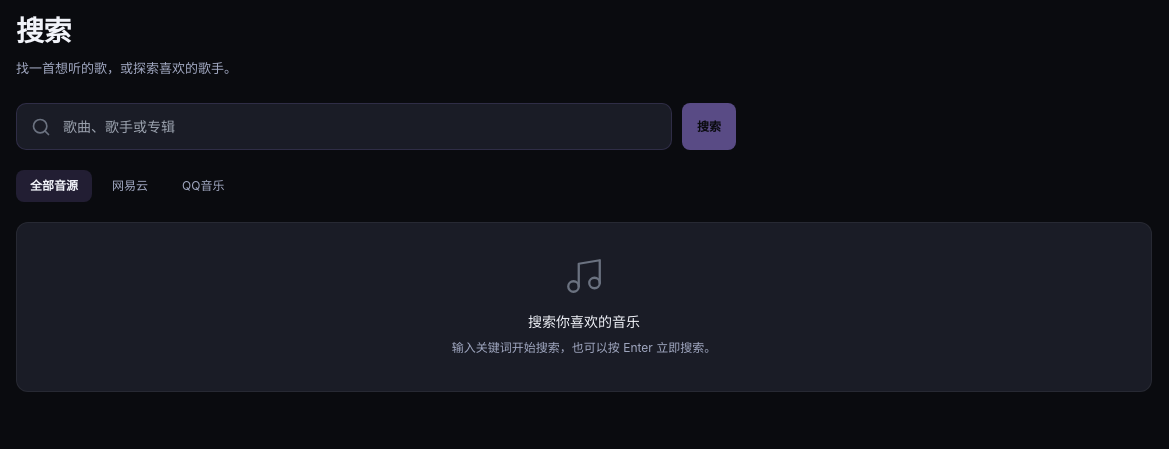
Scenario: 首次请求失败有持续错误和重试，成功空结果才显示无结果
Type "海" into the search field at (362, 127), box left=63, top=110, right=661, bottom=144
Wait 4450 ms
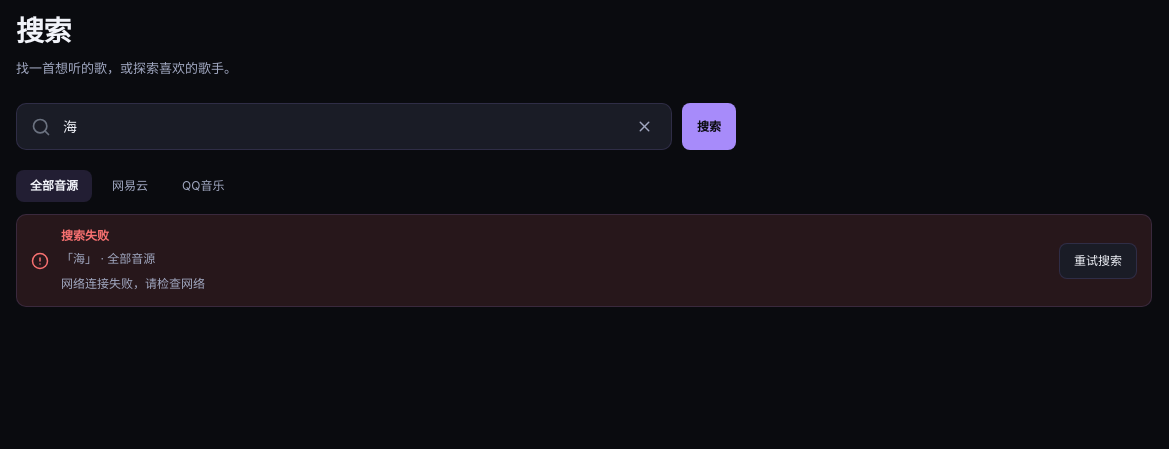
Expected: the text "没有找到相关结果" is not shown
Now the text "搜索失败" is shown, box left=61, top=228, right=109, bottom=244
Click the button "重试搜索" at (1098, 261), box left=1059, top=243, right=1137, bottom=279
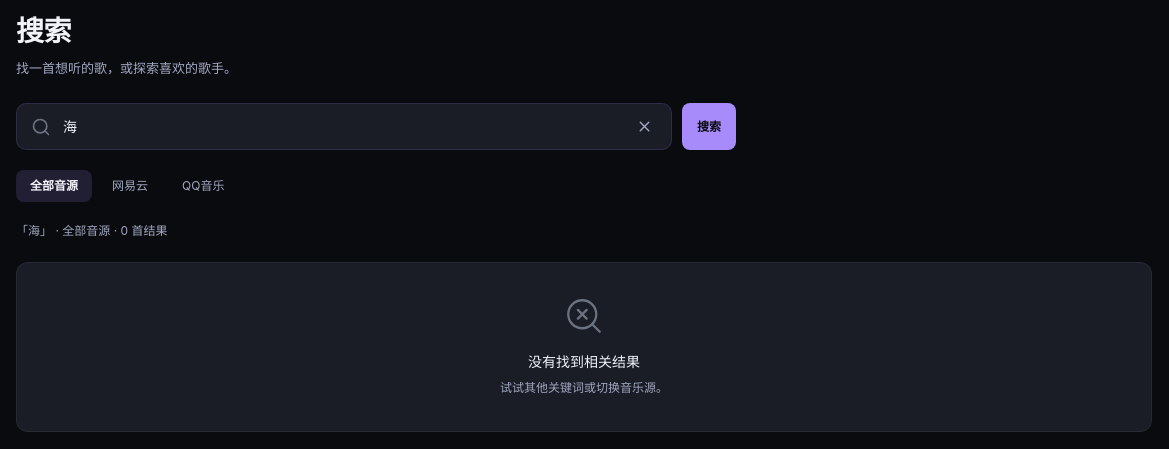
Now the text "搜索失败" is gone
Now the heading "没有找到相关结果" is shown, box left=528, top=354, right=640, bottom=370
